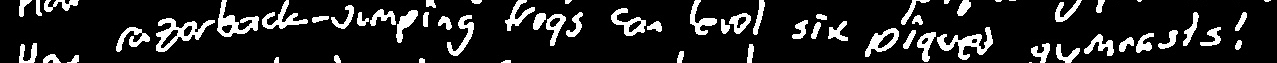How razorback-jumping frogs can level six piqued gymnasts!: (0, 0, 1277, 63)
